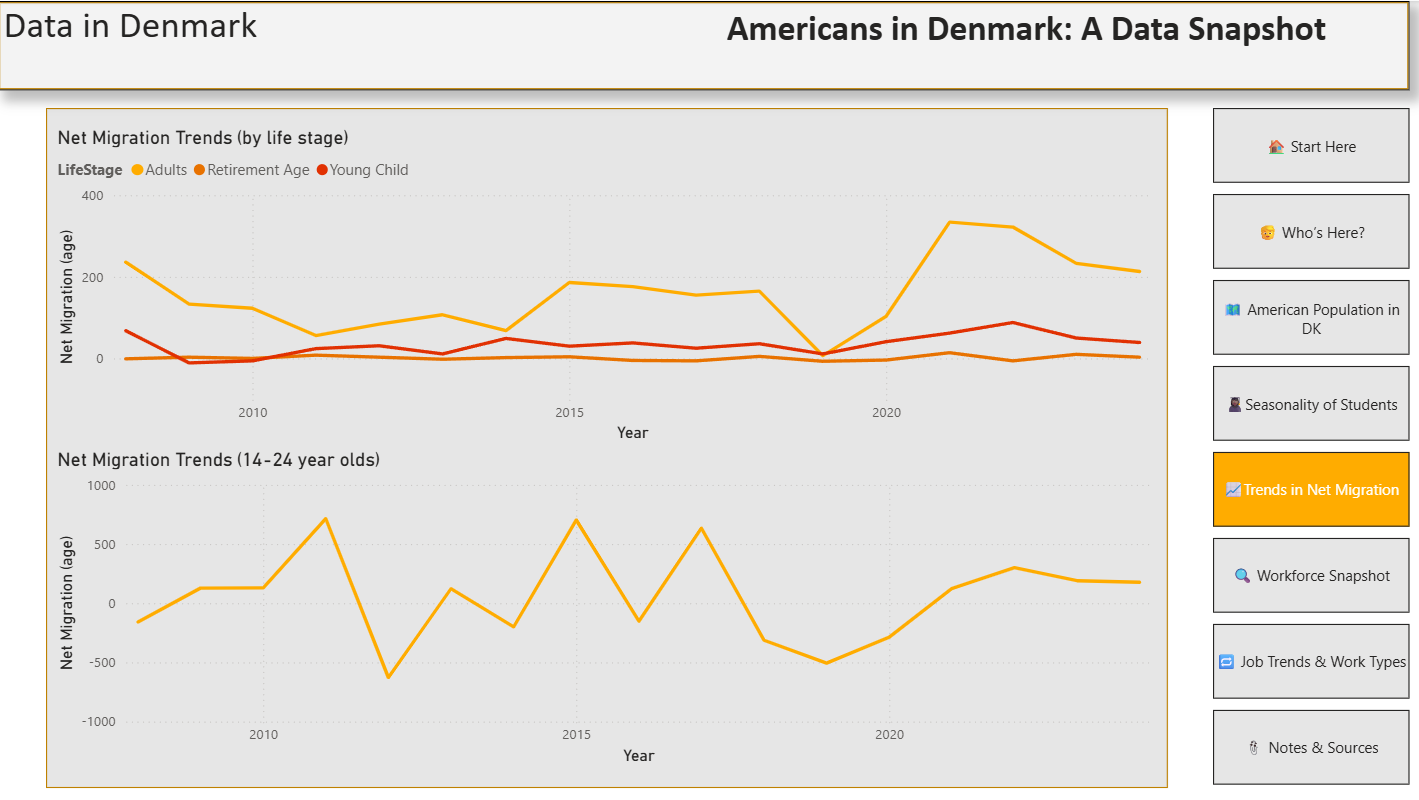

Layout of this report page (visuals, bound fields, positions):
{"tool":"powerbi","page":{"name":"📈Trends in Net Migration","canvas":[1280,720],"ordinal":4},"visuals":[{"type":"shape","box":[0,0,1264,80],"z":0,"group":"g1"},{"type":"shape","box":[43.2,95.9,1005.4,609.5],"z":0},{"type":"group","id":"g1","title":"Group 3","box":[0,0,1264,80],"z":1000},{"type":"lineChart","title":"Net Migration Trends (by life stage)","fields":{"Category":["Dim_Year.Year"],"Y":["Measures (do not delete).Net Migration (age)"],"Series":["Dim_AgeGroup.LifeStage"]},"box":[48,112,992,288],"z":2000},{"type":"lineChart","title":"Net Migration Trends (14-24 year olds)","fields":{"Category":["Dim_Year.Year"],"Y":["Measures (do not delete).Net Migration (age)"]},"box":[48,400,992,288],"z":3000},{"type":"textbox","title":"Data in Denmark","box":[0,0,265,80],"z":4000,"group":"g2"},{"type":"pageNavigator","box":[1088,96,176,608],"z":4000},{"type":"textbox","box":[640,0,623.8,80],"z":5000,"group":"g2"},{"type":"group","id":"g2","title":"Group 4","box":[0,0,1263.8,80],"z":5002,"group":"g1"}]}

Visuals, with their boxes in screenshot pixels (x1, y1, x2, y2), scaled from the page's 1280x720 canvas onto the 1419x800 screenshot:
shape: select_region(0, 0, 1401, 89)
shape: select_region(48, 107, 1162, 784)
"Group 3" group: select_region(0, 0, 1401, 89)
"Net Migration Trends (by life stage)" lineChart: select_region(53, 124, 1153, 444)
"Net Migration Trends (14-24 year olds)" lineChart: select_region(53, 444, 1153, 764)
"Data in Denmark" textbox: select_region(0, 0, 294, 89)
pageNavigator: select_region(1206, 107, 1401, 782)
textbox: select_region(710, 0, 1401, 89)
"Group 4" group: select_region(0, 0, 1401, 89)
